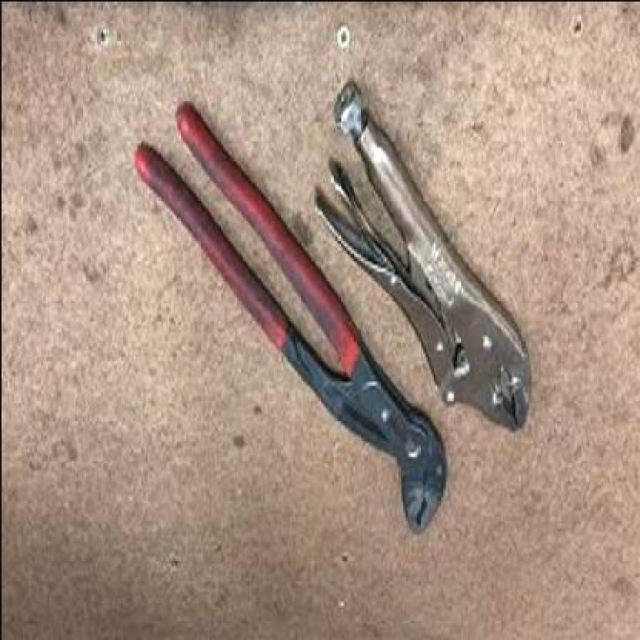pliers: (314, 86, 546, 434)
